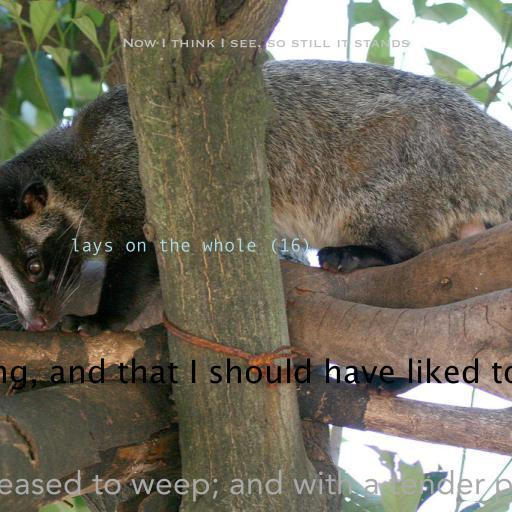Andale Mono: (70, 238, 312, 256)
Avenir: (0, 469, 512, 502)
Copperplate: (122, 38, 410, 50)
Lucida Grande: (0, 358, 512, 390)
